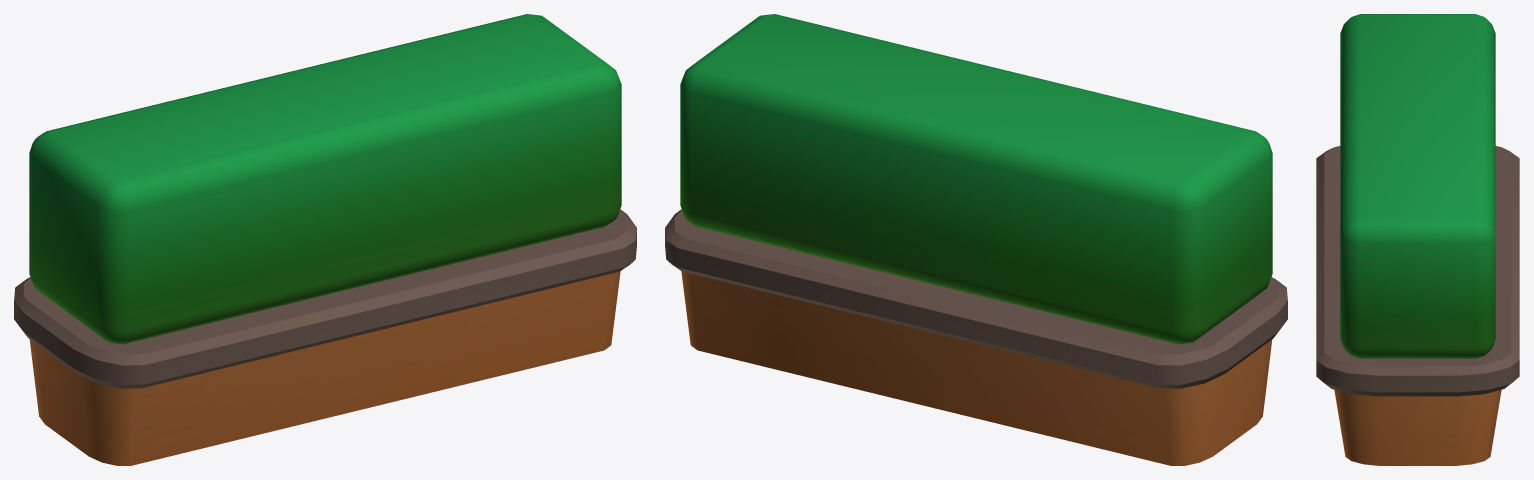
File: Bush_1_1.fbx
3 views of the same model, side by side, from view 1: azimuth 30°, elevation 25°; view 2: azimuth 150°, elevation 25°; view 3: azimuth 270°, elevation 25° (orthographic). The views are drawn at different scales.
Visible parts, largest first — view 1: Bush_1_1; view 2: Bush_1_1; view 3: Bush_1_1.
Part boxes in pixels (x1,y1,x2,y2): Bush_1_1: (14, 14, 636, 465); Bush_1_1: (665, 14, 1287, 465); Bush_1_1: (1316, 14, 1519, 465).
Bounding box in the file's own units: 220 × 106 × 81.2.
